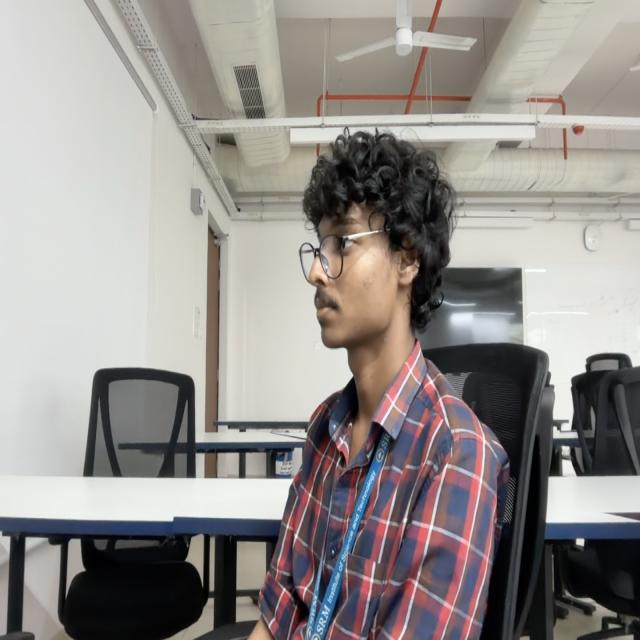darshan: (300, 129, 445, 349)
